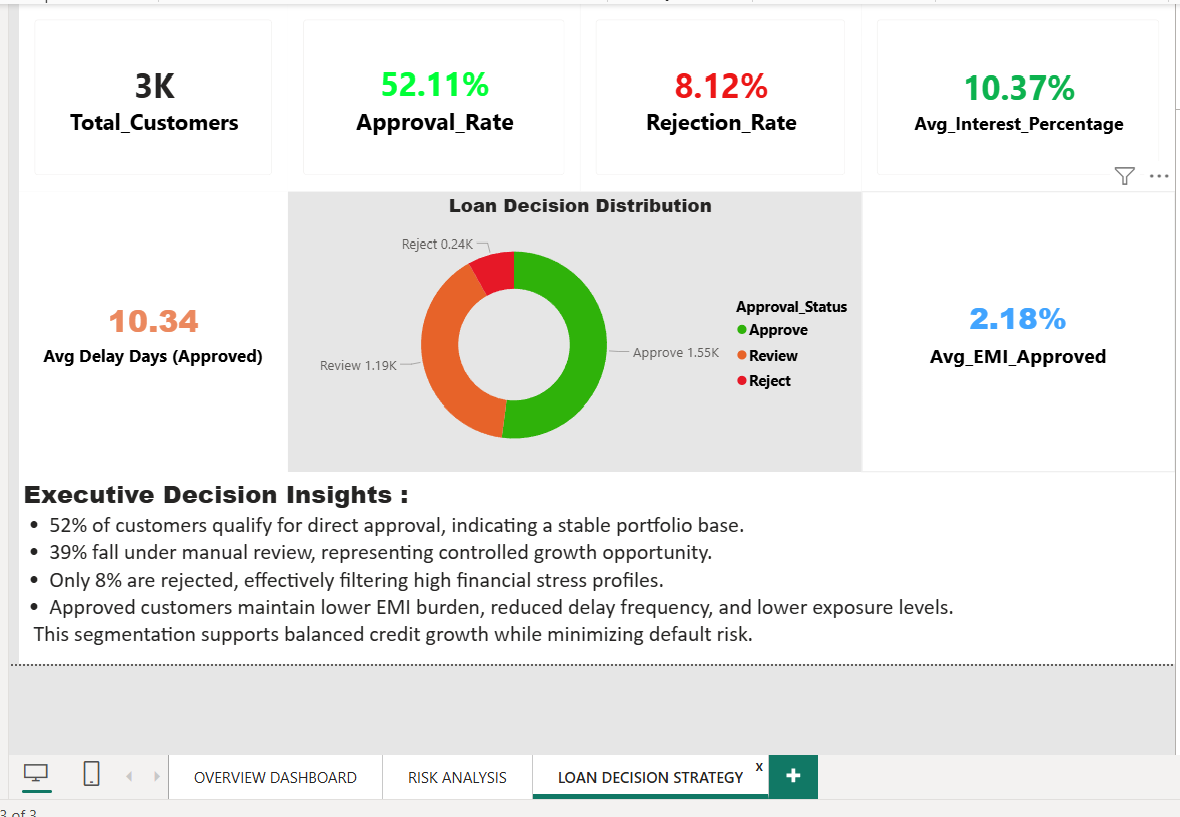

This screenshot's page, from the dashboard's own definition file:
{"tool":"powerbi","page":{"name":"LOAN DECISION STRATEGY","canvas":[1280,720],"ordinal":2},"visuals":[{"type":"donutChart","title":"Loan Decision Distribution","fields":{"Y":["CountNonNull(credit_risk_customer_level.Customer_ID)"],"Category":["credit_risk_customer_level.Approval_Status"]},"box":[306,204.5,642.2,306],"z":0},{"type":"cardVisual","fields":{"Data":["credit_risk_customer_level.Total_Customers"]},"box":[11,0,295,204.5],"z":1000},{"type":"cardVisual","fields":{"Data":["credit_risk_customer_level.Approval_Rate"]},"box":[306,0,321.1,204.5],"z":2000},{"type":"cardVisual","fields":{"Data":["credit_risk_customer_level.Rejection_Rate"]},"box":[627.1,0,308.7,204.5],"z":3000},{"type":"cardVisual","fields":{"Data":["credit_risk_customer_level.Avg_Interest_Percentage"]},"box":[935.9,0,344.4,204.5],"z":4000},{"type":"textbox","box":[11,510.5,1269.3,209.9],"z":5000},{"type":"card","fields":{"Values":["credit_risk_customer_level.Avg_Delay_Approved"]},"box":[11,204.5,295,306],"z":6000},{"type":"card","fields":{"Values":["credit_risk_customer_level.Avg_EMI_Approved"]},"box":[935.9,204.5,344.4,306],"z":7000}]}

Visuals, with their boxes on the page's 1280x720 design canvas (x1, y1, x2, y2). These are canvas units, not pixel positions in the 1180x817 screenshot, which may show the page scaled, cropped or inside an application window:
"Loan Decision Distribution" donutChart: [306, 204, 948, 510]
cardVisual - credit_risk_customer_level.Total_Customers: [11, 0, 306, 204]
cardVisual - credit_risk_customer_level.Approval_Rate: [306, 0, 627, 204]
cardVisual - credit_risk_customer_level.Rejection_Rate: [627, 0, 936, 204]
cardVisual - credit_risk_customer_level.Avg_Interest_Percentage: [936, 0, 1280, 204]
textbox: [11, 510, 1280, 720]
card - credit_risk_customer_level.Avg_Delay_Approved: [11, 204, 306, 510]
card - credit_risk_customer_level.Avg_EMI_Approved: [936, 204, 1280, 510]
